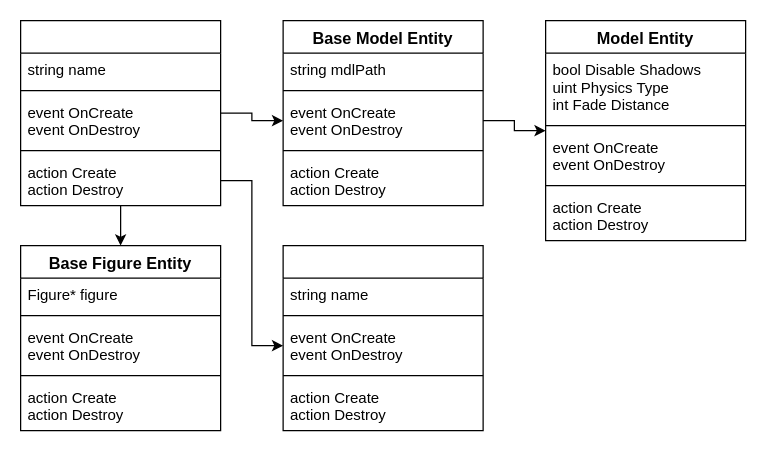
Some shapes in this 766 by 451 pixel diagram are drawn without their labels. The shapes that lost their labels are listed below. From the top down, each one's box as (x1, y1, x2, y2) in pixels, then its label:
(19, 19, 221, 206): Base Entity
(282, 244, 483, 431): Base Logic Entity
